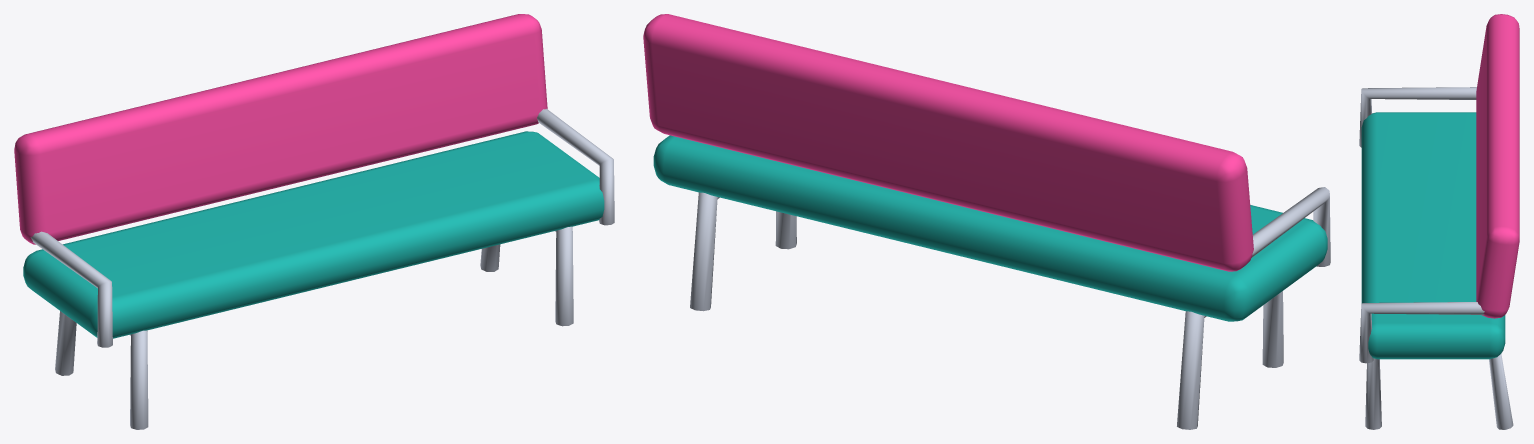
The model's file is mall_bench.glb.
3 views of the same model, side by side, from view 1: azimuth 30°, elevation 25°; view 2: azimuth 150°, elevation 25°; view 3: azimuth 270°, elevation 25° (orthographic). The views are drawn at different scales.
Visible parts, largest first — view 1: Bench; view 2: Bench; view 3: Bench.
Part boxes in pixels (box(x1,y1,x2,y2)): Bench: box(14, 14, 614, 429); Bench: box(643, 14, 1330, 429); Bench: box(1359, 14, 1519, 429).
Bounding box in the file's own units: 2.2 × 0.9945 × 0.6708.
